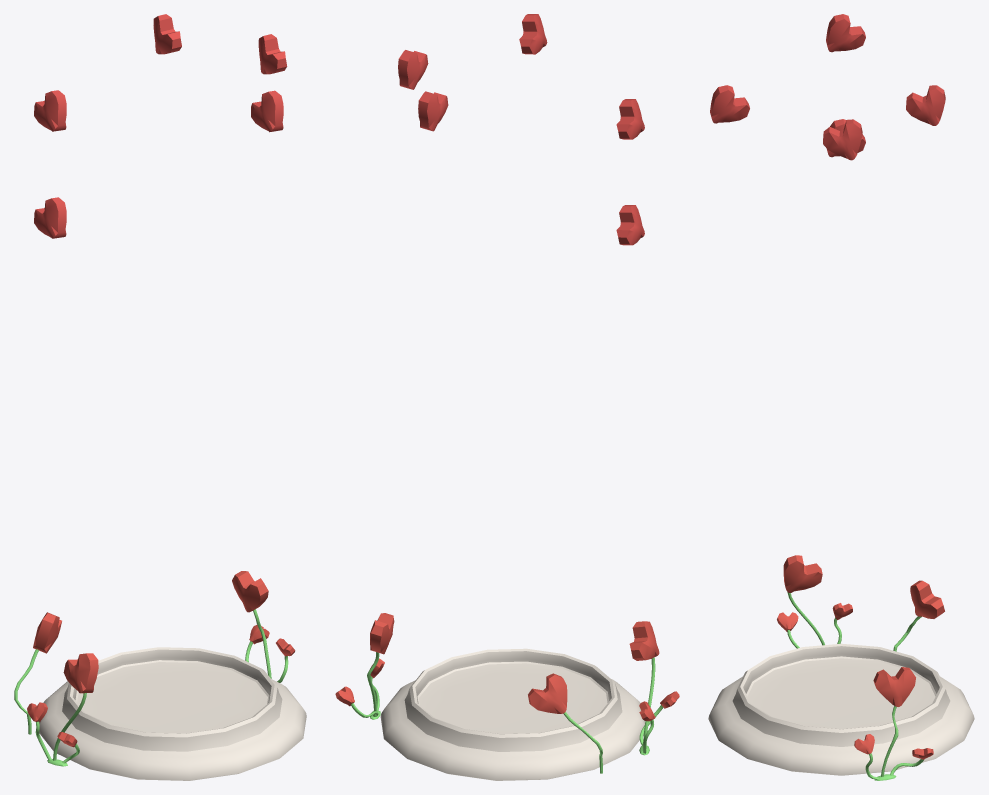
The model's file is healanimation.fbx.
3 views of the same model, side by side, from view 1: azimuth 30°, elevation 25°; view 2: azimuth 150°, elevation 25°; view 3: azimuth 270°, elevation 25° (orthographic). The views are drawn at different scales.
Visible parts, largest first — view 1: HP.002, HP.006, HP.007, HP.001, HP.003, HP.005; view 2: HP.002, HP.003, HP.005, HP.001, HP.007, HP.006; view 3: HP.002, HP.001, HP.003, HP.005, HP.006.
Part boxes in pixels (x1,y1,x2,y2): HP.002: (14,571,306,780); HP.006: (251,90,283,132); HP.007: (34,197,66,238); HP.001: (34,90,66,131); HP.003: (258,34,287,74); HP.005: (153,14,181,54); HP.002: (335,613,679,780); HP.003: (398,50,428,89); HP.005: (418,91,448,131); HP.001: (616,99,644,139); HP.007: (616,205,644,245); HP.006: (519,14,547,54); HP.002: (708,555,974,780); HP.001: (826,14,865,52); HP.003: (823,119,862,160); HP.005: (906,85,945,125); HP.006: (710,85,749,123).
Size of the model in its own units: 267 by 617 by 227.
